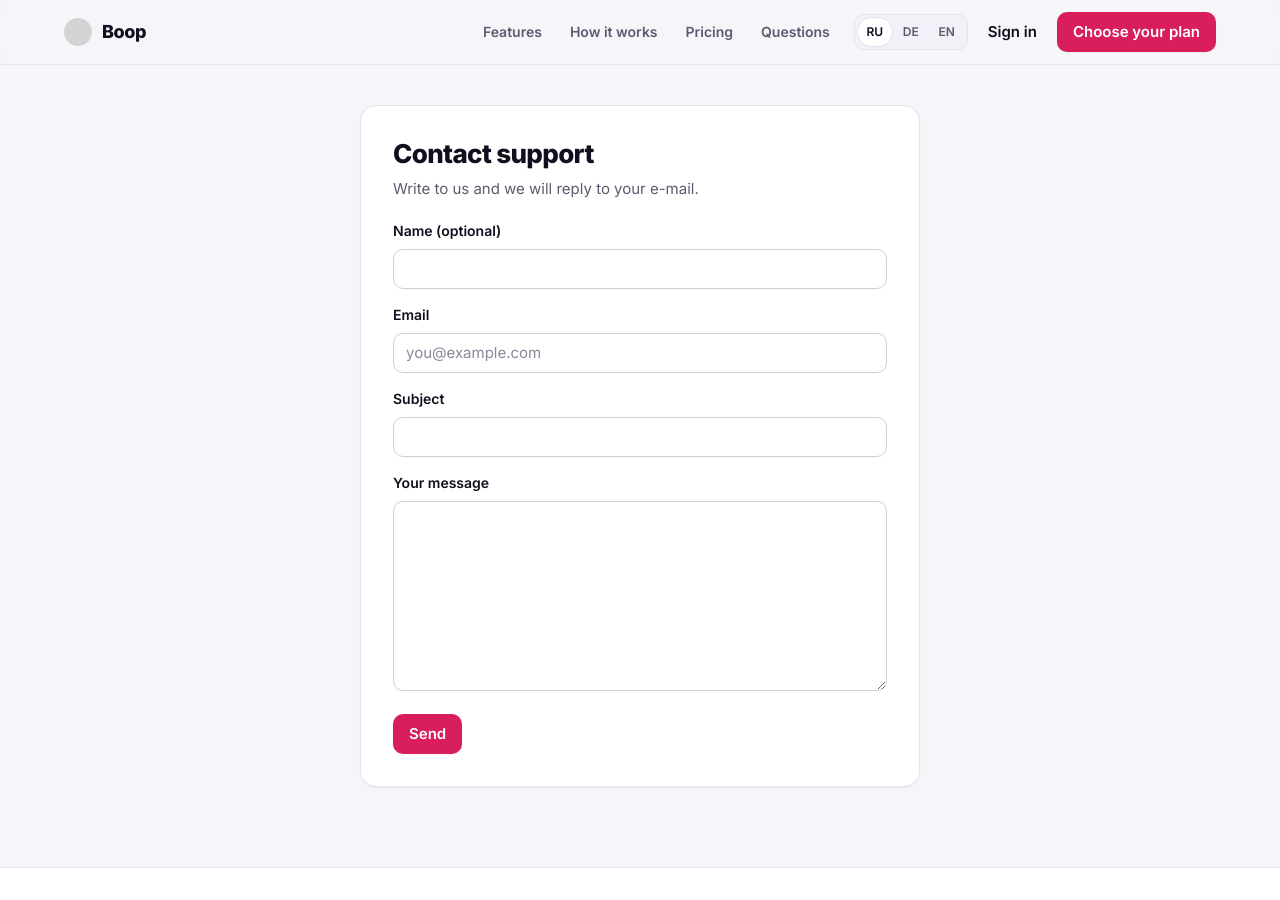
Test: #/support › the server's message when sending fails, and the button works again
Type "alex@b.c" into the field labelled "Email".
click(640, 352); type("alex@b.c")  # box [393,332,887,372]
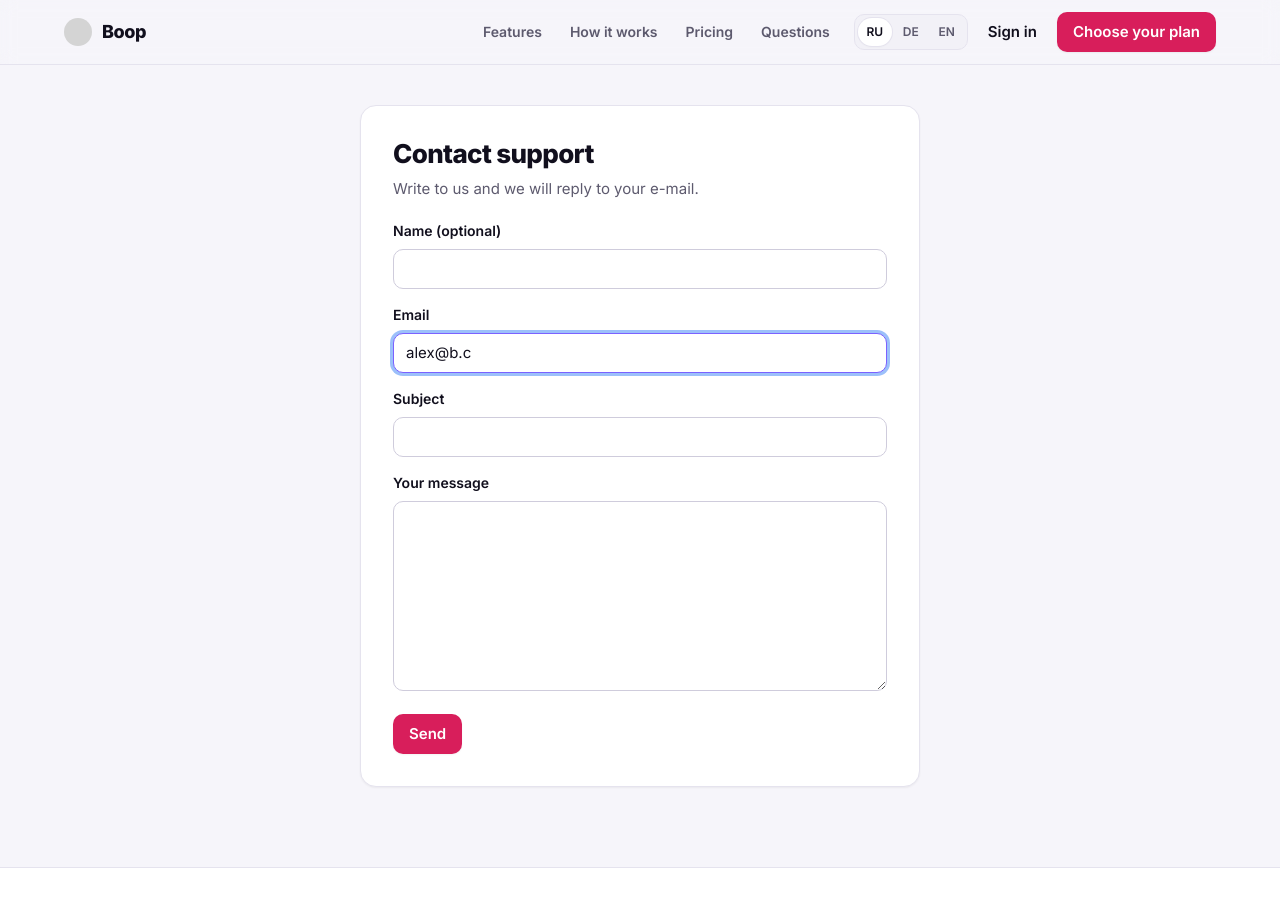
Type "Hi" into the field labelled "Subject".
click(640, 436); type("Hi")  # box [393,416,887,456]
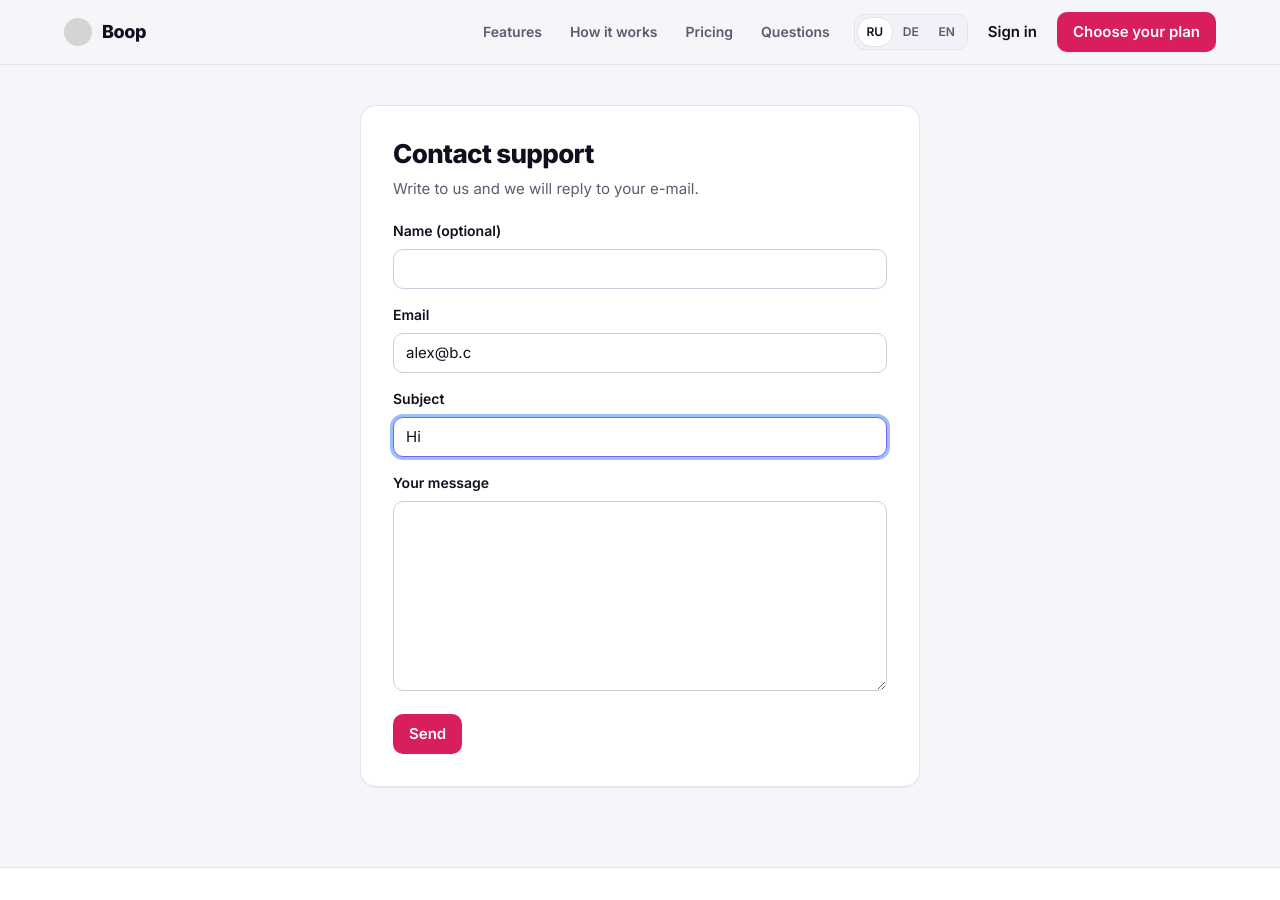
Type "Ten letters at least" into the text box labelled "Your message".
click(640, 596); type("Ten letters at least")  # box [393,500,887,690]
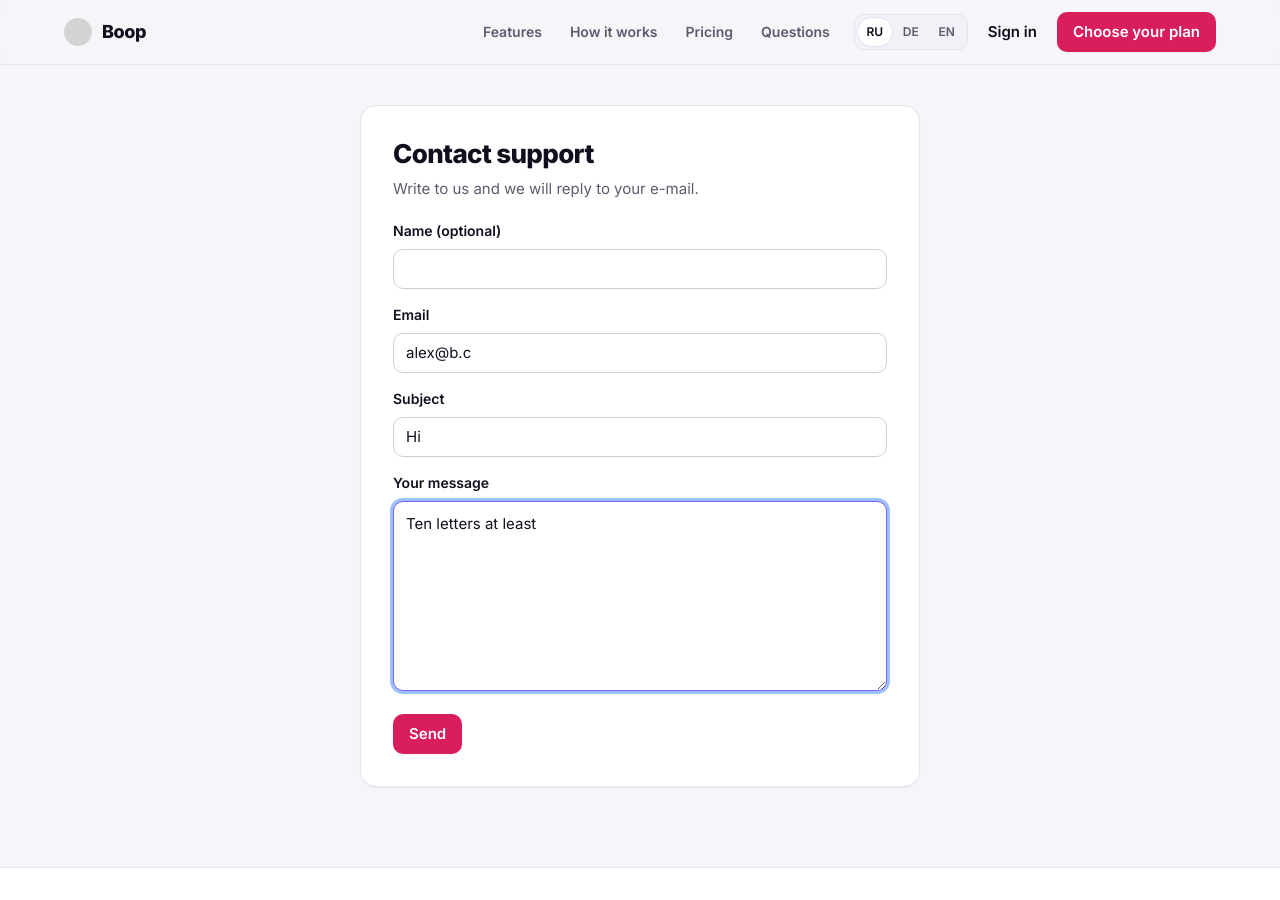
Click the button "Send".
click(428, 734)  # box [393,714,462,754]
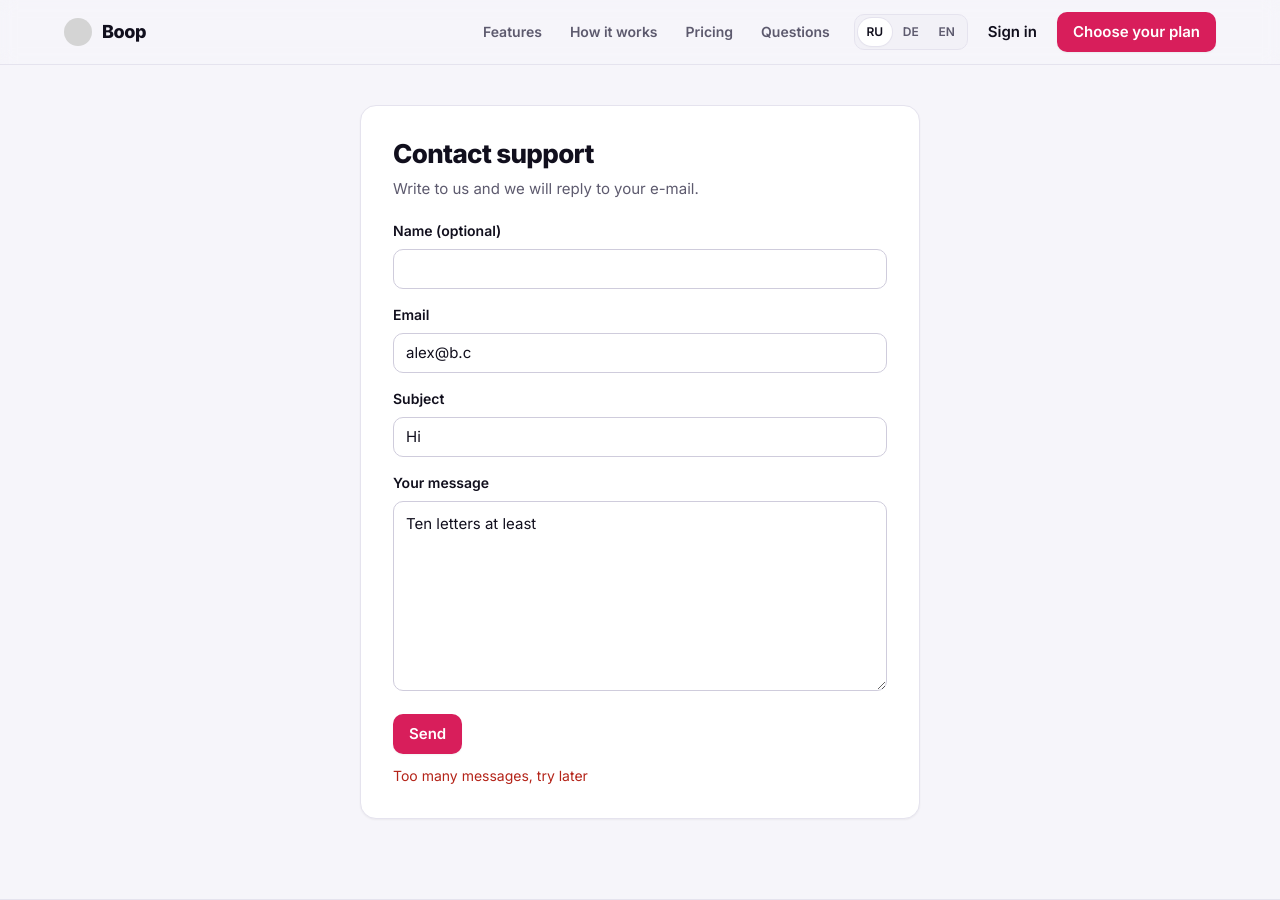
Now the message reads "Too many messages, try later", box [393,766,588,784]
